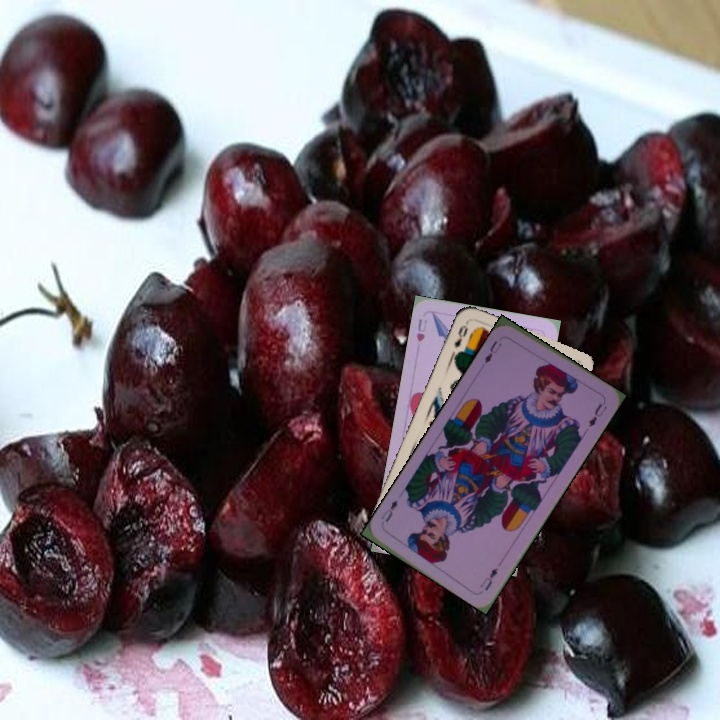EO: (450, 321, 470, 351)
EU: (480, 336, 504, 366), (476, 563, 500, 593)
HU: (412, 315, 430, 345)
